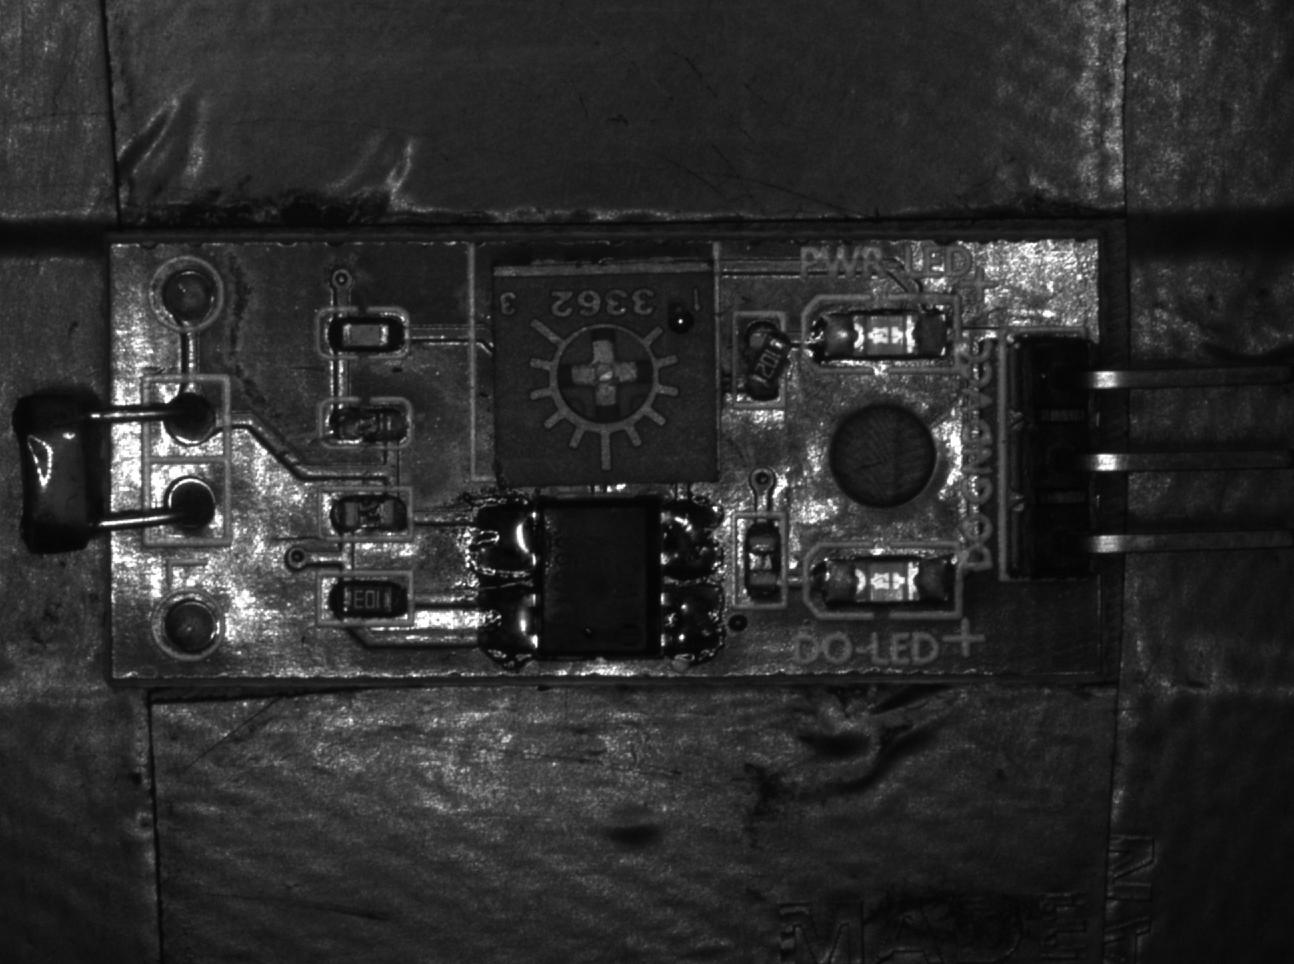bridge: (658, 496, 725, 579), (472, 580, 540, 657), (470, 503, 540, 571), (662, 584, 724, 657)
lifted: (734, 307, 792, 408)
miss: (733, 509, 785, 610), (319, 490, 413, 540), (319, 401, 410, 445)
ok: (315, 307, 412, 363), (317, 572, 412, 625)
